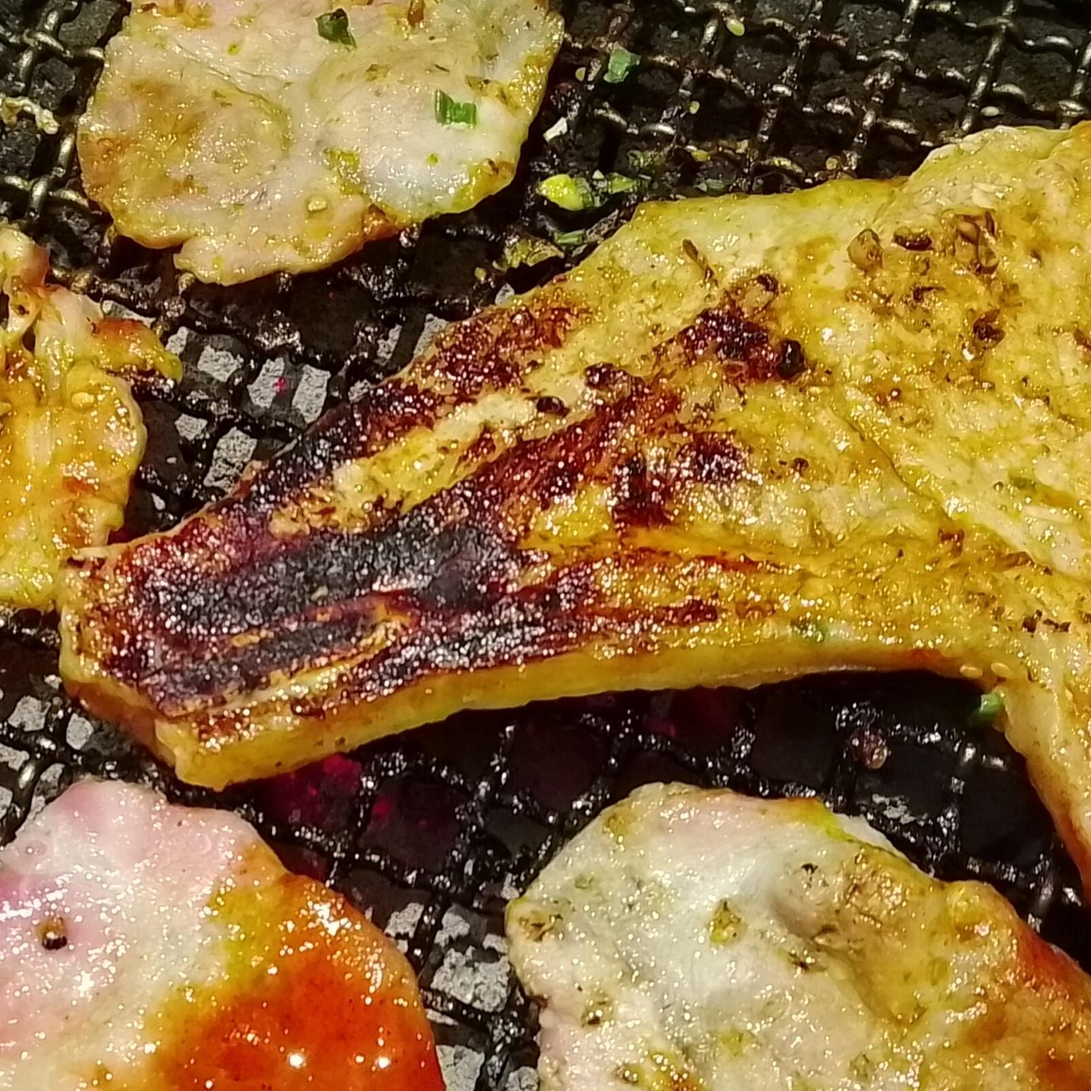Overcooked: (59, 122, 1090, 897)
